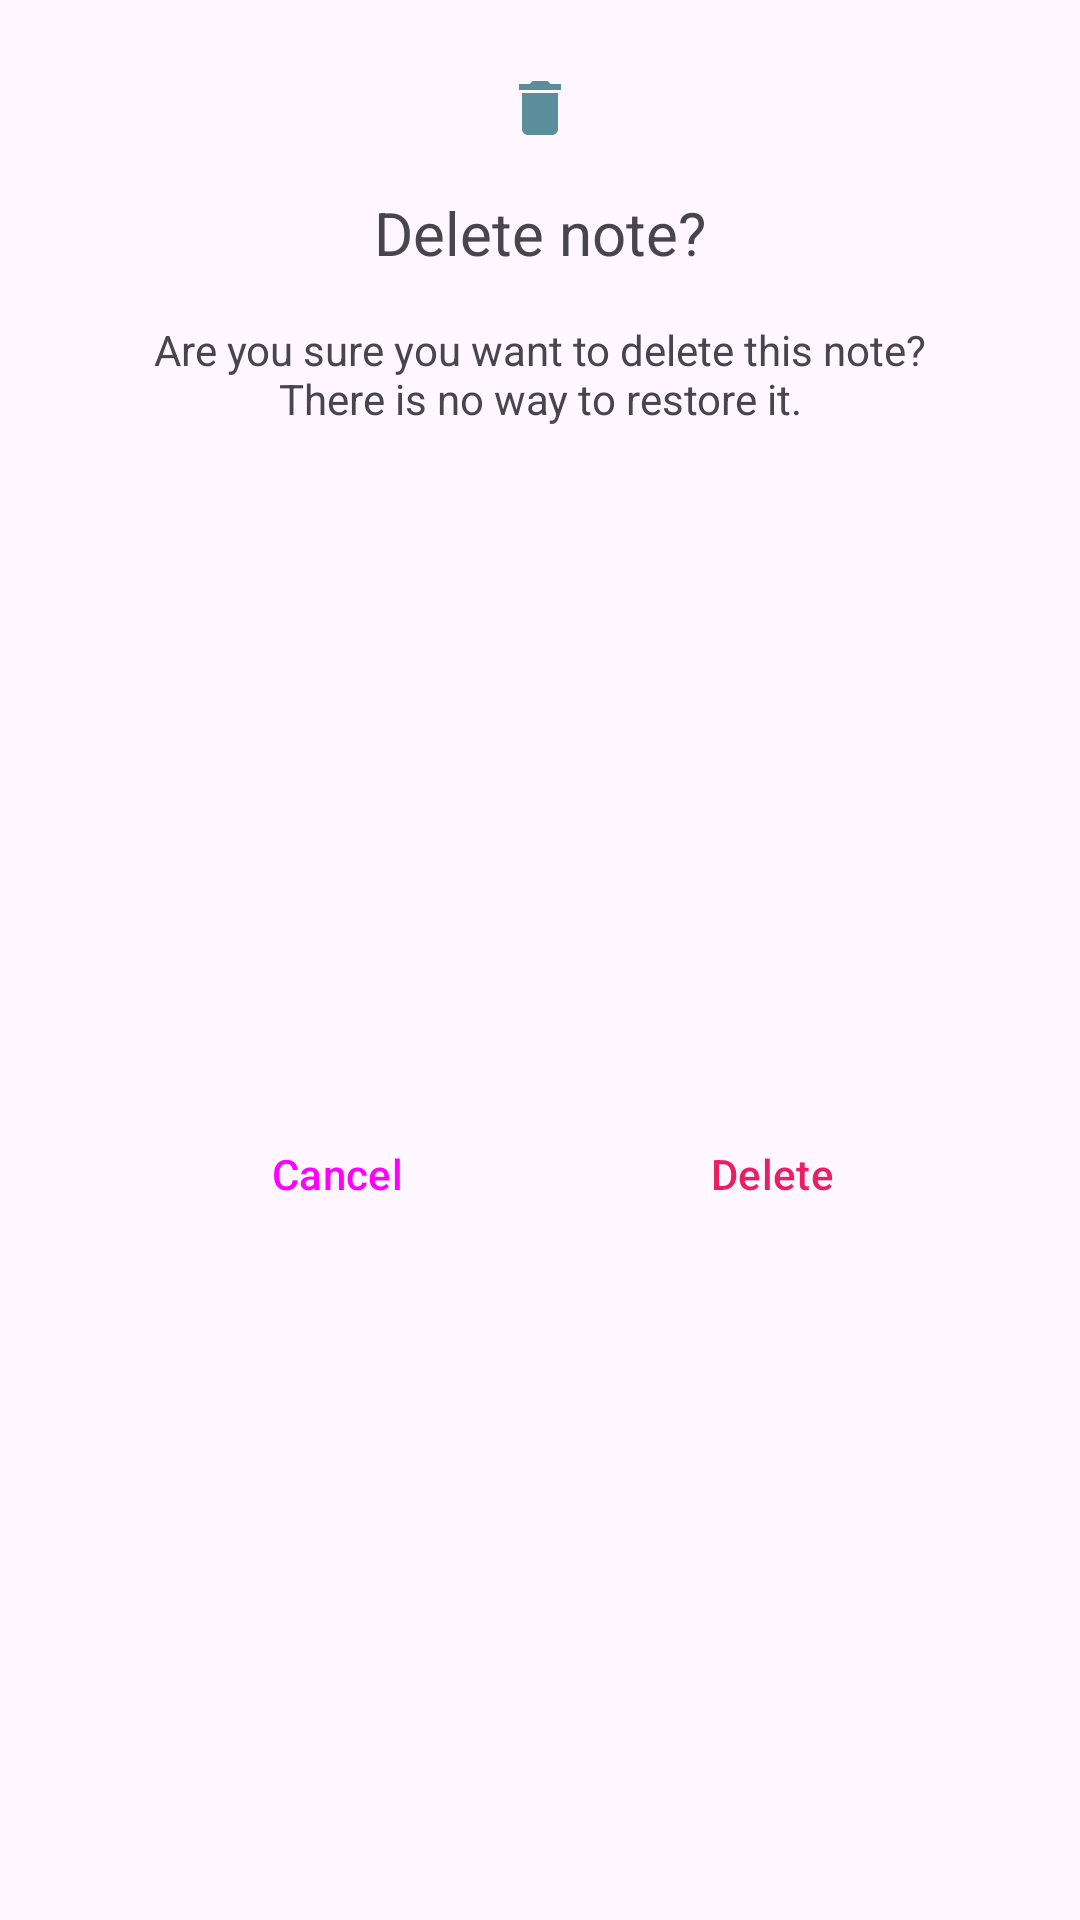

Screen size 1080x1920. Icon name, then its box in pixels as bbox(x1, y1, x2, y2):
delete dialog icon: bbox(519, 81, 561, 135)
